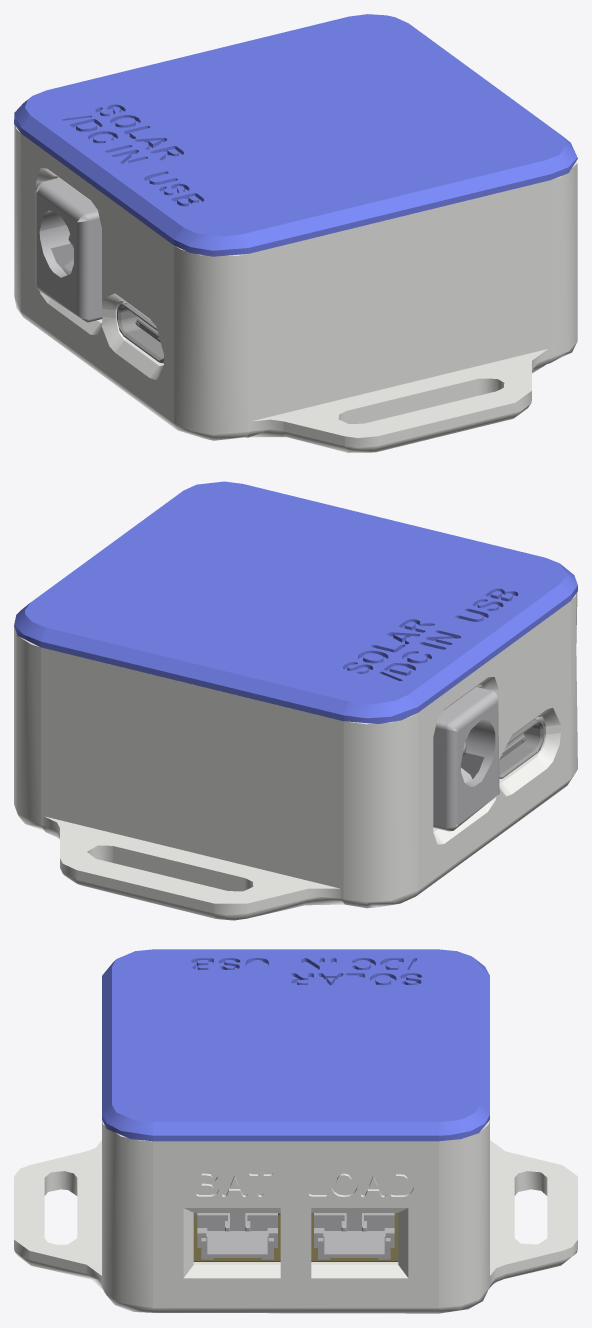
The model's file is ada-6114.glb.
3 views of the same model, one above another, from view 1: azimuth 30°, elevation 25°; view 2: azimuth 150°, elevation 25°; view 3: azimuth 270°, elevation 25° (orthographic). The views are drawn at different scales.
Parts seen in each view (by area): view 1: 0.9166666666666666_0.9166666666666666_0.9166666666666666_0.8, 0.16666666666666666_0.25_0.9166666666666666_0, 0.5833333333333334_0.5833333333333334_0.5833333333333334_0.8, 0.3333333333333333_0.3333333333333333_0.3333333333333333_0; view 2: 0.9166666666666666_0.9166666666666666_0.9166666666666666_0.8, 0.16666666666666666_0.25_0.9166666666666666_0, 0.5833333333333334_0.5833333333333334_0.5833333333333334_0.8, 0.3333333333333333_0.3333333333333333_0.3333333333333333_0; view 3: 0.9166666666666666_0.9166666666666666_0.9166666666666666_0.8, 0.16666666666666666_0.25_0.9166666666666666_0, 0.5833333333333334_0.5833333333333334_0.5833333333333334_0.8, 0.16666666666666666_0.16666666666666666_0.08333333333333333_.
Boxes of the visible parts, x1=… form: 0.9166666666666666_0.9166666666666666_0.9166666666666666_0.8: x1=14, y1=125, x2=577, y2=452; 0.16666666666666666_0.25_0.9166666666666666_0: x1=14, y1=14, x2=577, y2=256; 0.5833333333333334_0.5833333333333334_0.5833333333333334_0.8: x1=35, y1=177, x2=137, y2=322; 0.3333333333333333_0.3333333333333333_0.3333333333333333_0: x1=117, y1=302, x2=163, y2=362; 0.9166666666666666_0.9166666666666666_0.9166666666666666_0.8: x1=14, y1=592, x2=577, y2=920; 0.16666666666666666_0.25_0.9166666666666666_0: x1=14, y1=481, x2=577, y2=723; 0.5833333333333334_0.5833333333333334_0.5833333333333334_0.8: x1=433, y1=687, x2=499, y2=831; 0.3333333333333333_0.3333333333333333_0.3333333333333333_0: x1=499, y1=719, x2=544, y2=778; 0.9166666666666666_0.9166666666666666_0.9166666666666666_0.8: x1=14, y1=1120, x2=577, y2=1313; 0.16666666666666666_0.25_0.9166666666666666_0: x1=102, y1=949, x2=489, y2=1213; 0.5833333333333334_0.5833333333333334_0.5833333333333334_0.8: x1=197, y1=1213, x2=394, y2=1259; 0.16666666666666666_0.16666666666666666_0.08333333333333333_: x1=193, y1=1213, x2=398, y2=1261.
Bounding box in the file's own units: 4.33 × 2.06 × 5.52.
